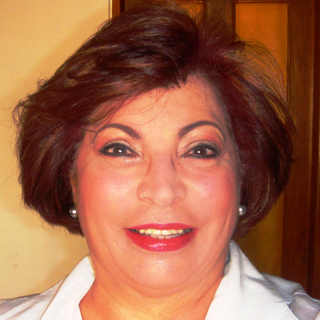eye: (96, 139, 142, 164), (179, 139, 224, 164)
